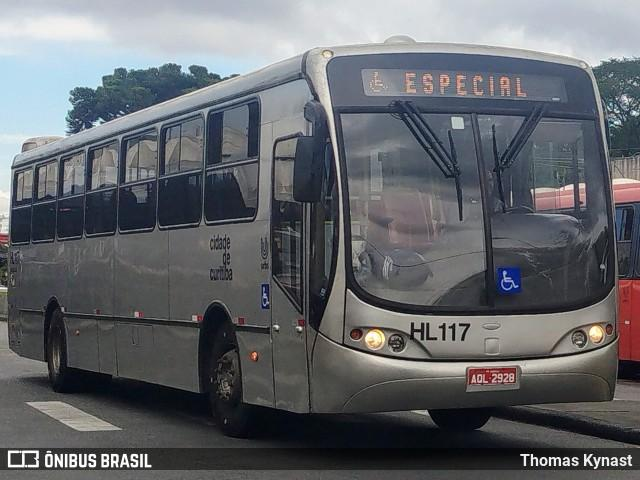ESPECIAL: (398, 67, 530, 101)
